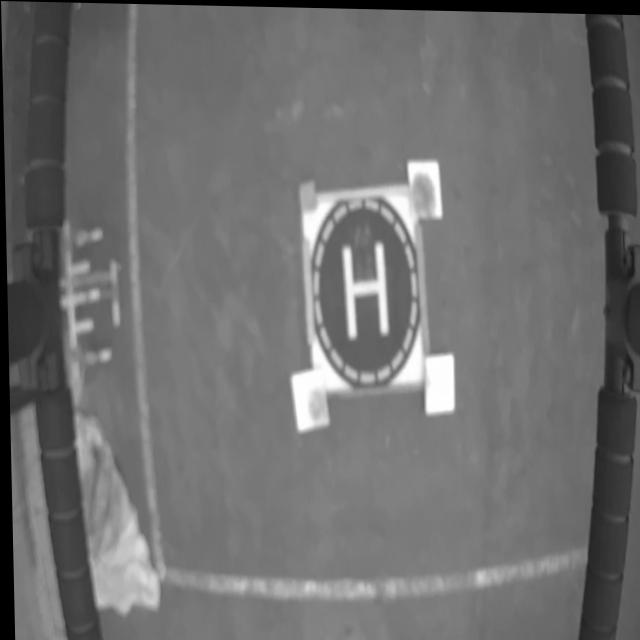Helipad: (341, 238, 387, 337)
